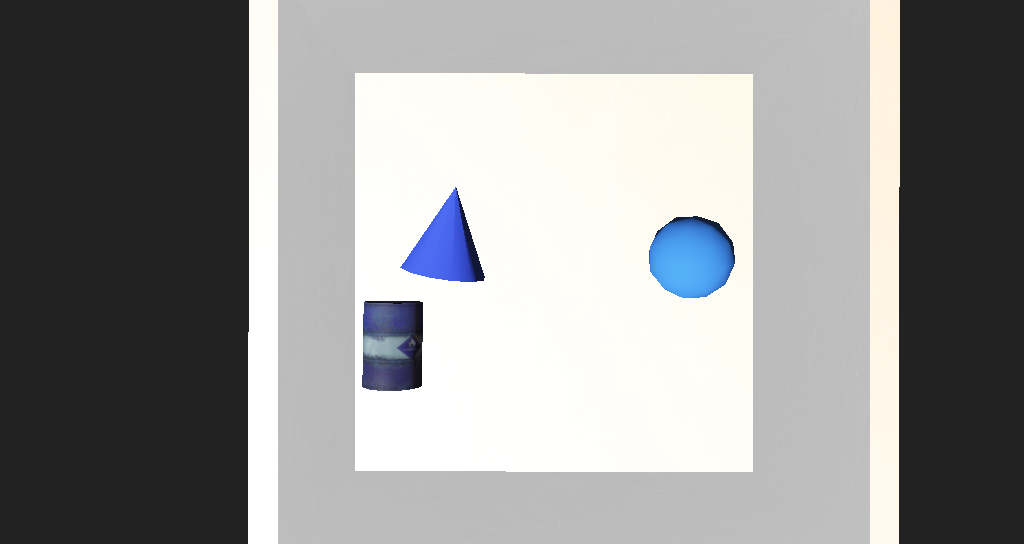cone: (357, 282, 411, 329)
cylinder: (377, 215, 472, 272)
sphere: (573, 241, 640, 284)
